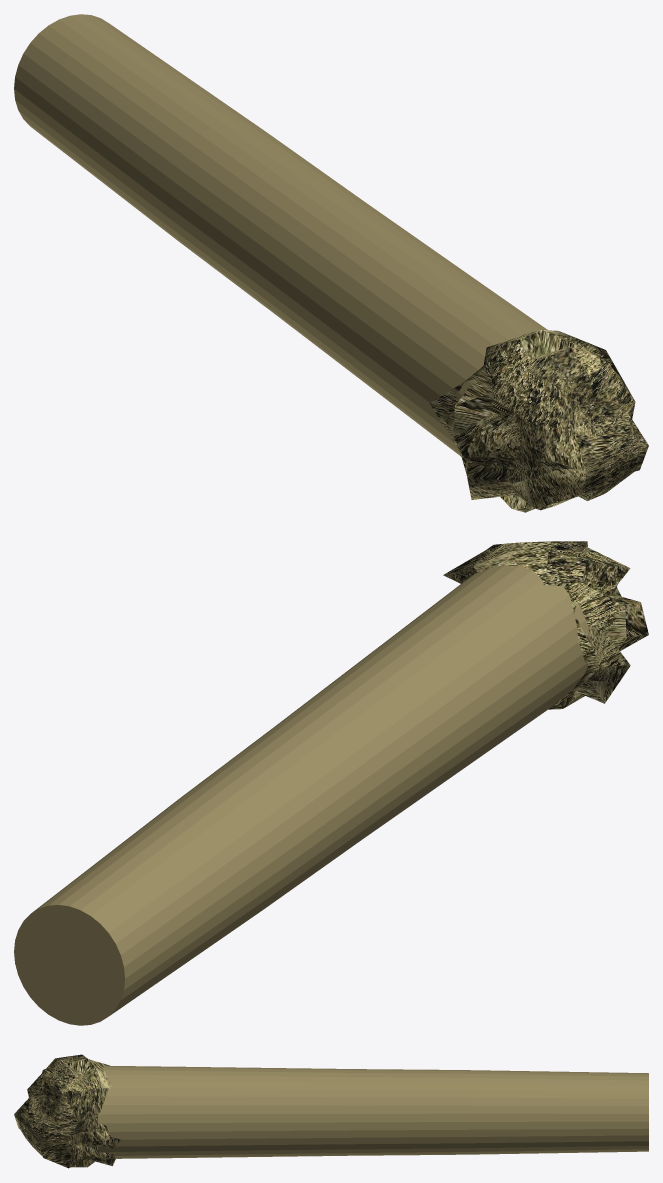
Rendered from joint.fbx.
The picture shows the model from 3 angles, top to bottom: view 1: azimuth 30°, elevation 25°; view 2: azimuth 150°, elevation 25°; view 3: azimuth 270°, elevation 25°; orthographic projection. The views are drawn at different scales.
Parts seen in each view (by area): view 1: Cylinder, Mball.001; view 2: Cylinder, Mball.001; view 3: Cylinder, Mball.001.
Part boxes in pixels (bbox=[...]): Cylinder: bbox=[14, 14, 547, 456]; Mball.001: bbox=[429, 330, 648, 512]; Cylinder: bbox=[14, 565, 589, 1025]; Mball.001: bbox=[443, 541, 648, 709]; Cylinder: bbox=[98, 1065, 648, 1158]; Mball.001: bbox=[14, 1054, 120, 1168].
Size of the model in its own units: 96.42 by 86.93 by 501.
